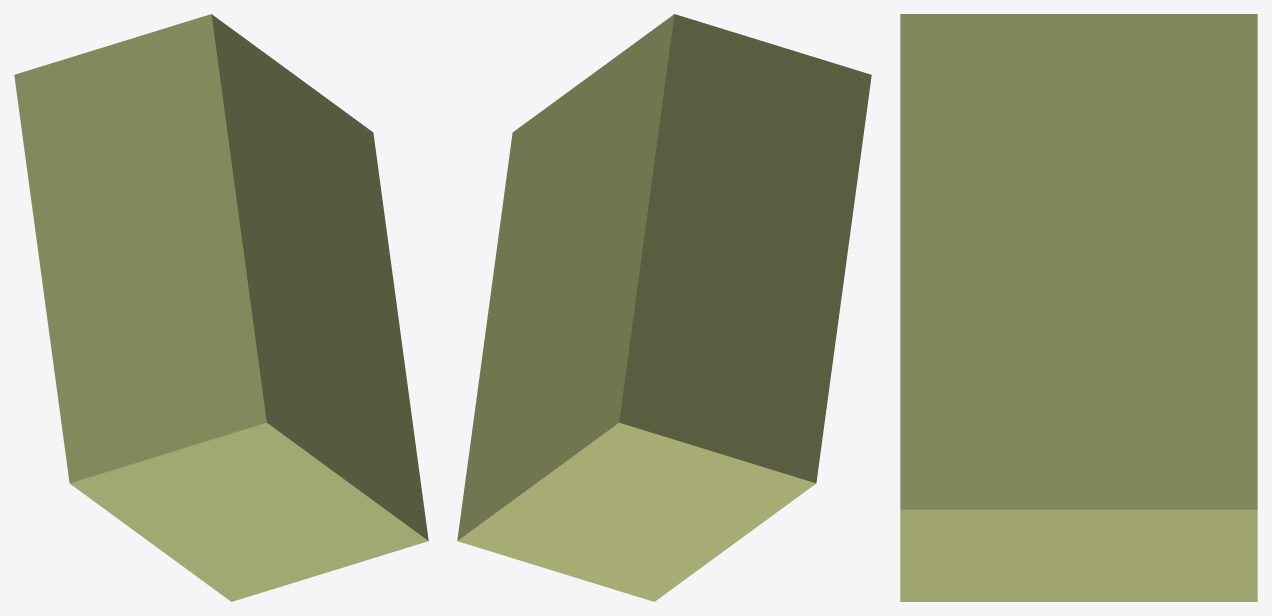
3 views of the same model, side by side, from view 1: azimuth 30°, elevation 25°; view 2: azimuth 150°, elevation 25°; view 3: azimuth 270°, elevation 25° (orthographic). The views are drawn at different scales.
Parts seen in each view (by area): view 1: 0_1_0_0_1_0_1_3_3_3_2; view 2: 0_1_0_0_1_0_1_3_3_3_2; view 3: 0_1_0_0_1_0_1_3_3_3_2.
Boxes of the visible parts, x1=… form: 0_1_0_0_1_0_1_3_3_3_2: x1=14, y1=14, x2=428, y2=601; 0_1_0_0_1_0_1_3_3_3_2: x1=457, y1=14, x2=871, y2=601; 0_1_0_0_1_0_1_3_3_3_2: x1=900, y1=14, x2=1257, y2=601.
Size of the model in its own units: 5.4 by 8.89 by 6.
